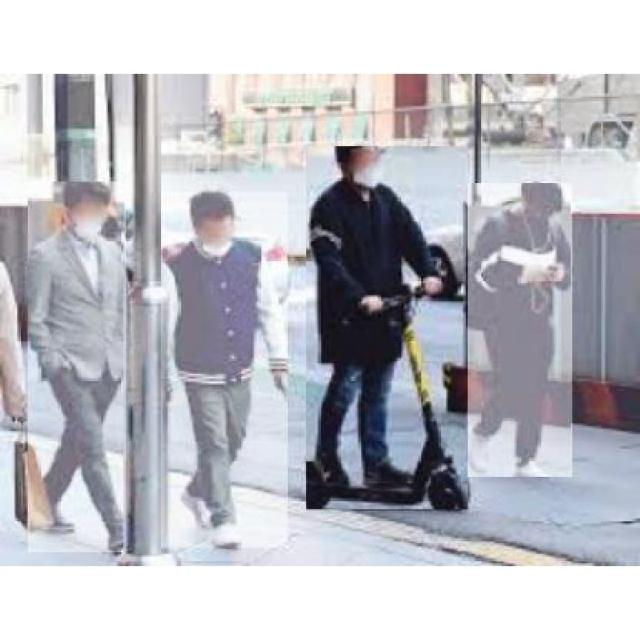pedestrian: (308, 148, 470, 512), (160, 192, 288, 548), (29, 183, 128, 554), (469, 183, 573, 477)
